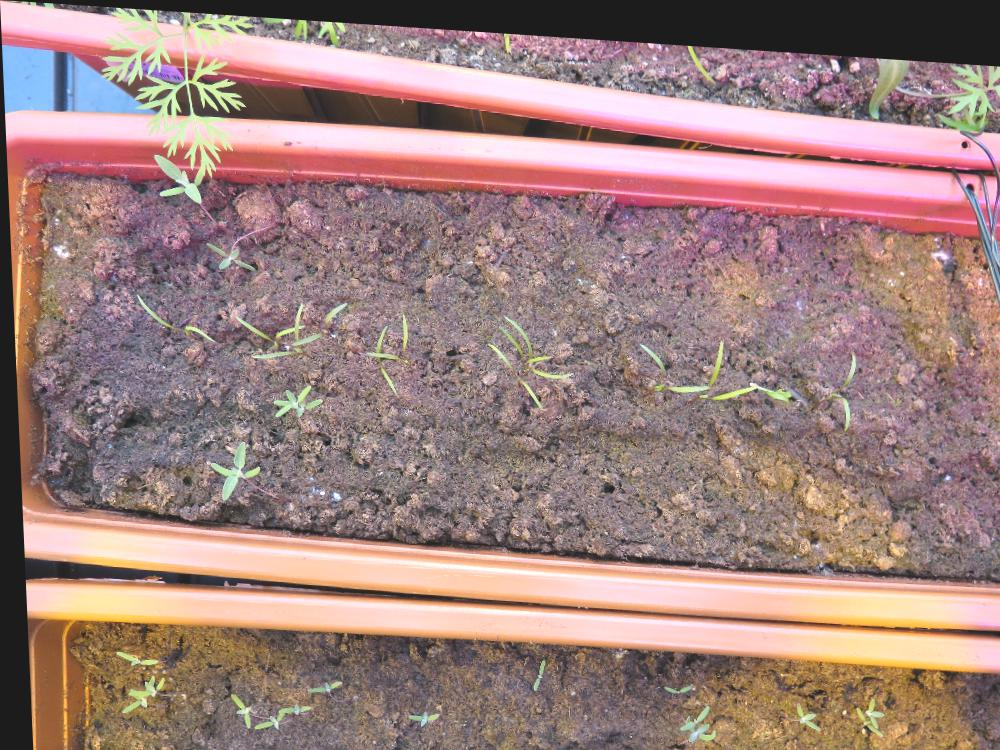crop: (131, 289, 214, 342), (827, 338, 855, 422)
weed: (201, 434, 258, 501), (203, 237, 254, 268), (222, 688, 244, 725), (298, 672, 336, 692), (789, 689, 814, 719), (108, 648, 152, 664), (399, 701, 432, 722), (524, 648, 540, 685), (656, 672, 686, 686)
